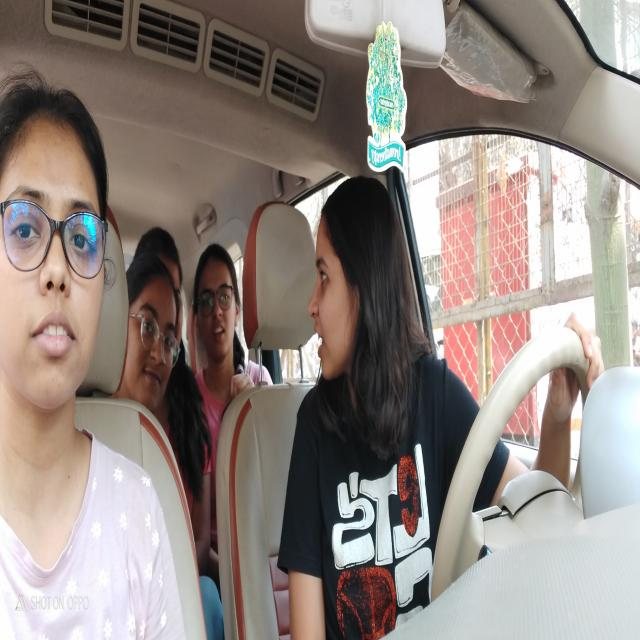LeftRight: (305, 203, 363, 374)
person: (0, 134, 107, 387), (137, 266, 177, 395), (197, 255, 241, 356), (172, 232, 186, 354)
talking: (313, 330, 326, 352)
